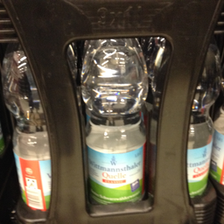water: (80, 38, 147, 205), (1, 44, 52, 210), (189, 43, 221, 201)
